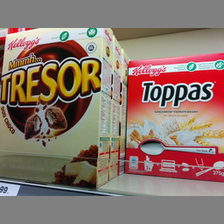cereal: (1, 28, 113, 193), (125, 52, 224, 184)
